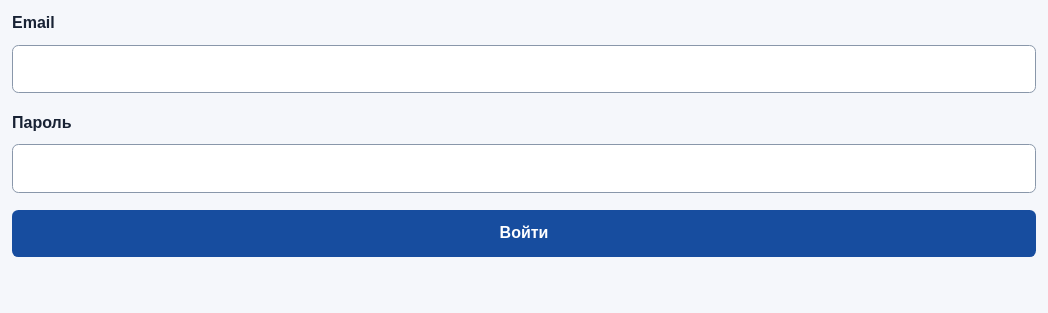
Test: login explains a temporary rate limit
Type "user@example.com" into the field labelled "Email" at coordinates (524, 69), box [12,45,1036,93]
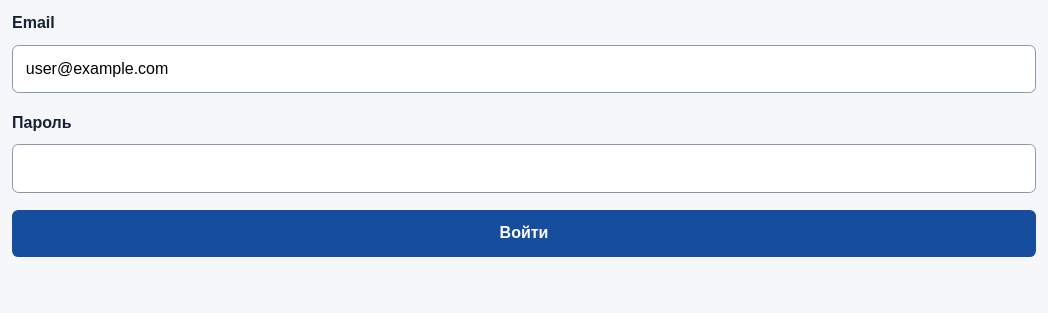
Type "password-123" into the password field labelled "Пароль" at coordinates (524, 168), box [12,144,1036,193]
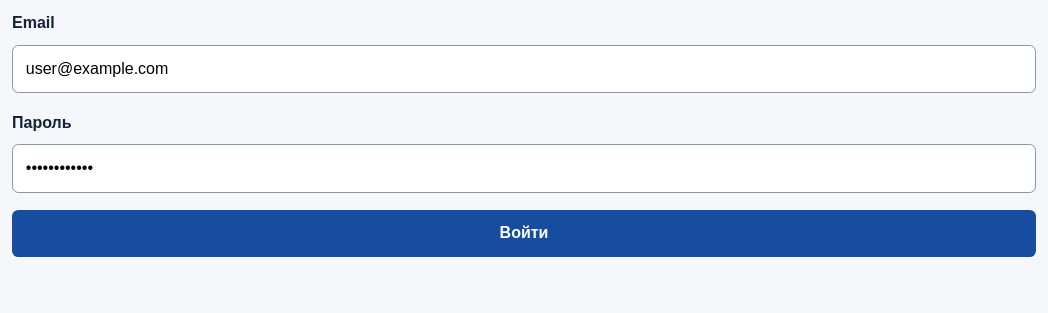
Click the button "Войти" at coordinates (524, 233), box [12,210,1036,256]
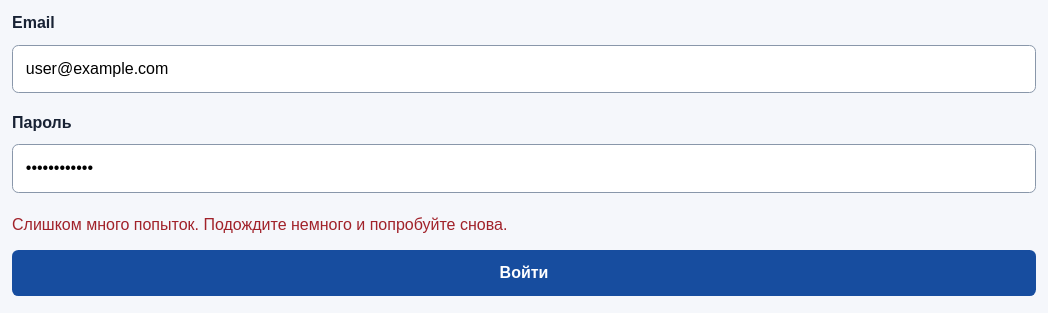
Result: the message shows "Слишком много попыток" at [12,216,507,233]
